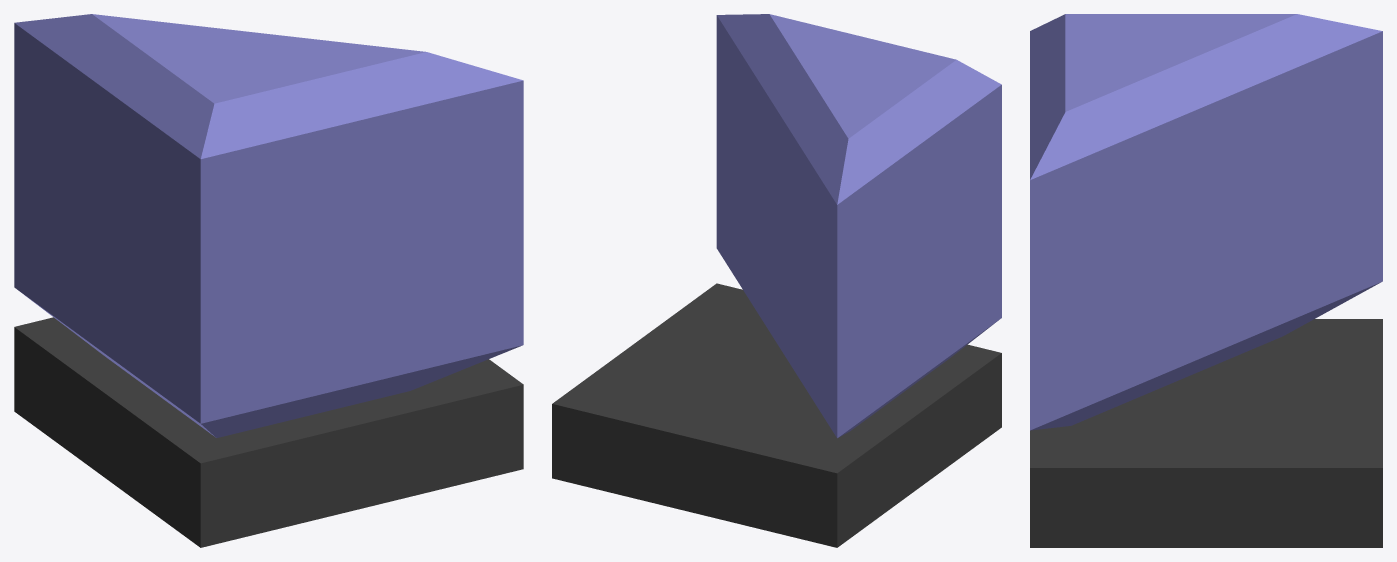
The model's file is WallTriangle.fbx.
The picture shows the model from 3 angles, left to right: view 1: azimuth 30°, elevation 25°; view 2: azimuth 150°, elevation 25°; view 3: azimuth 270°, elevation 25°; orthographic projection. The views are drawn at different scales.
Parts seen in each view (by area): view 1: polySurface12; view 2: polySurface12; view 3: polySurface12.
Part boxes in pixels (<box>): polySurface12: <box>14,14,523,547</box>; polySurface12: <box>552,14,1001,547</box>; polySurface12: <box>1030,14,1382,547</box>.
Bounding box in the file's own units: 1 × 1.25 × 1.
